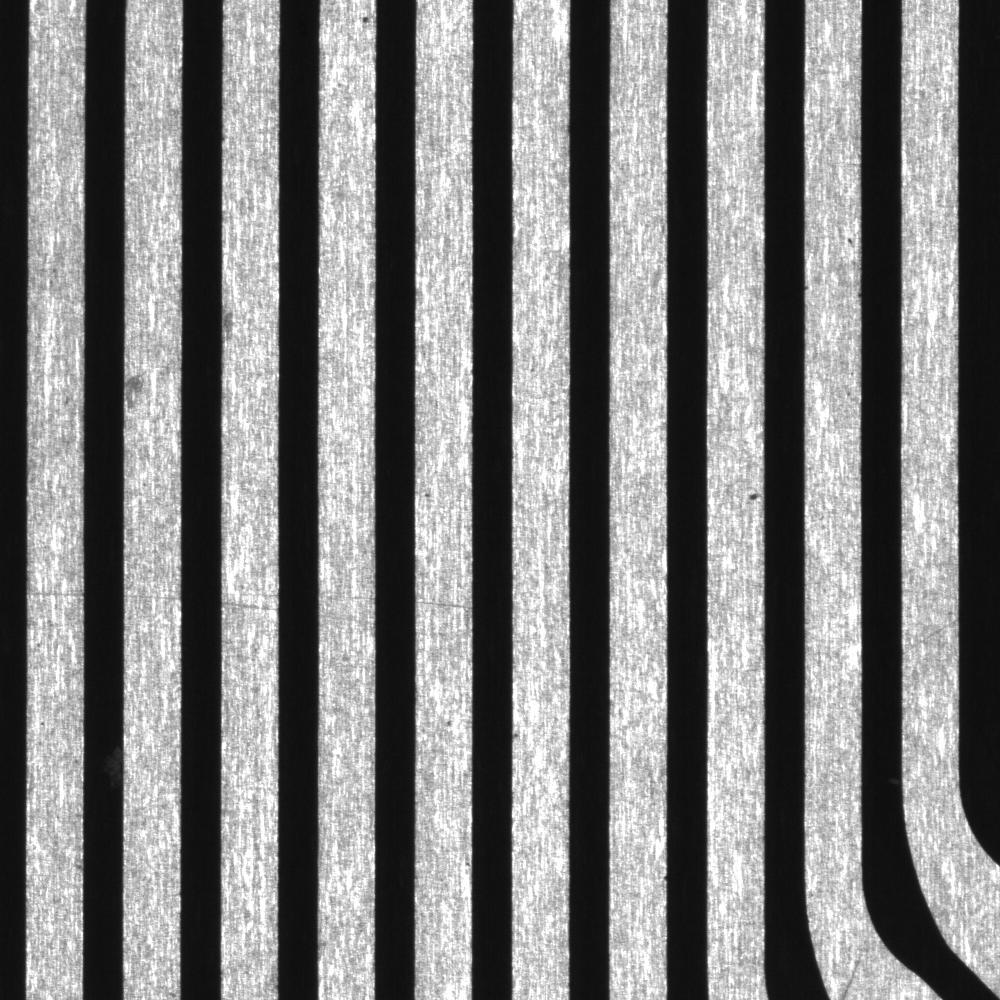Discolor: (123, 369, 158, 422), (221, 298, 240, 349)
Etching: (799, 273, 821, 302), (437, 712, 461, 733), (510, 721, 528, 747), (419, 485, 440, 505), (744, 484, 762, 506), (843, 229, 860, 252), (658, 866, 671, 886), (219, 130, 230, 149)
Pinhole: (358, 11, 374, 29), (38, 718, 50, 732)
Scar: (898, 608, 960, 659), (221, 590, 281, 626), (23, 580, 85, 613), (320, 587, 375, 620), (412, 592, 475, 620), (123, 585, 182, 613), (831, 949, 863, 999)
